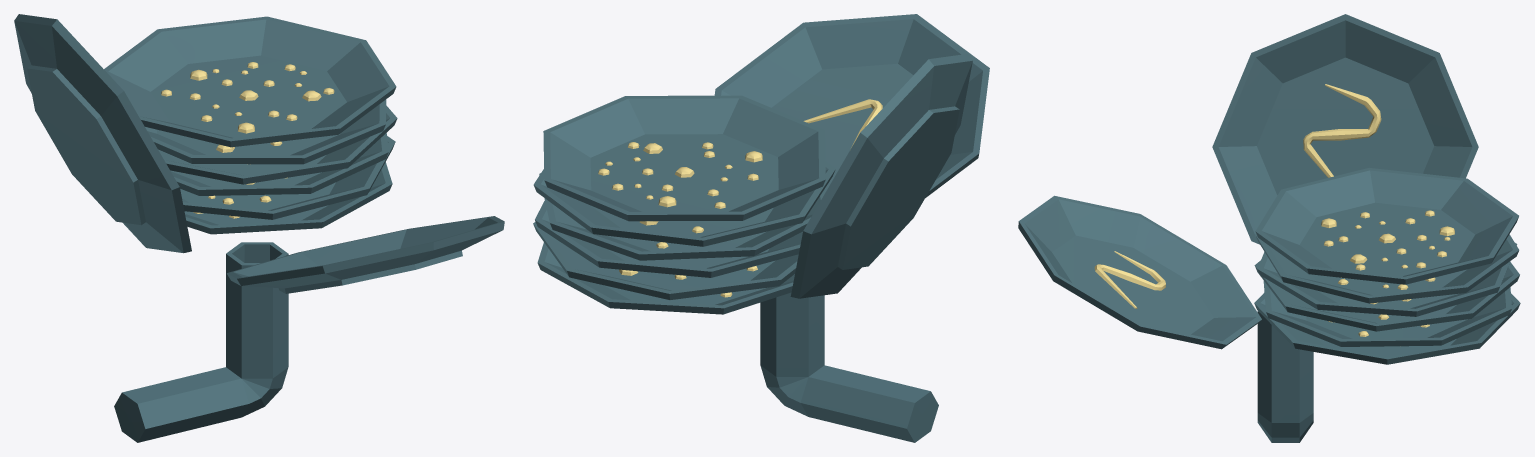
Rendered from dirty-plates.glb.
3 views of the same model, side by side, from view 1: azimuth 30°, elevation 25°; view 2: azimuth 150°, elevation 25°; view 3: azimuth 270°, elevation 25° (orthographic). The views are drawn at different scales.
Parts seen in each view (by area): view 1: DirtyPlates.001; view 2: DirtyPlates.001; view 3: DirtyPlates.001.
Boxes of the visible parts, x1,y1,x2,y2 form: DirtyPlates.001: (14, 14, 504, 442); DirtyPlates.001: (533, 14, 989, 442); DirtyPlates.001: (1018, 14, 1520, 442).
Bounding box in the file's own units: 0.4102 × 0.4523 × 0.5706.
1 material, 1 textured.
